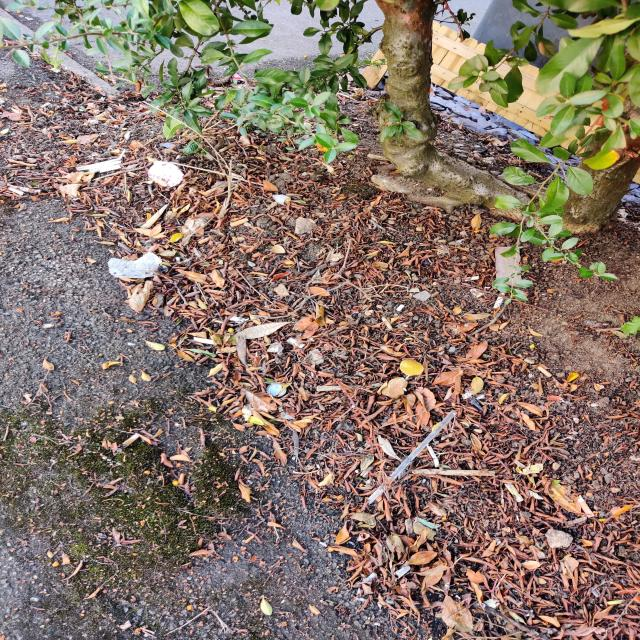litter: (78, 222, 206, 308)
